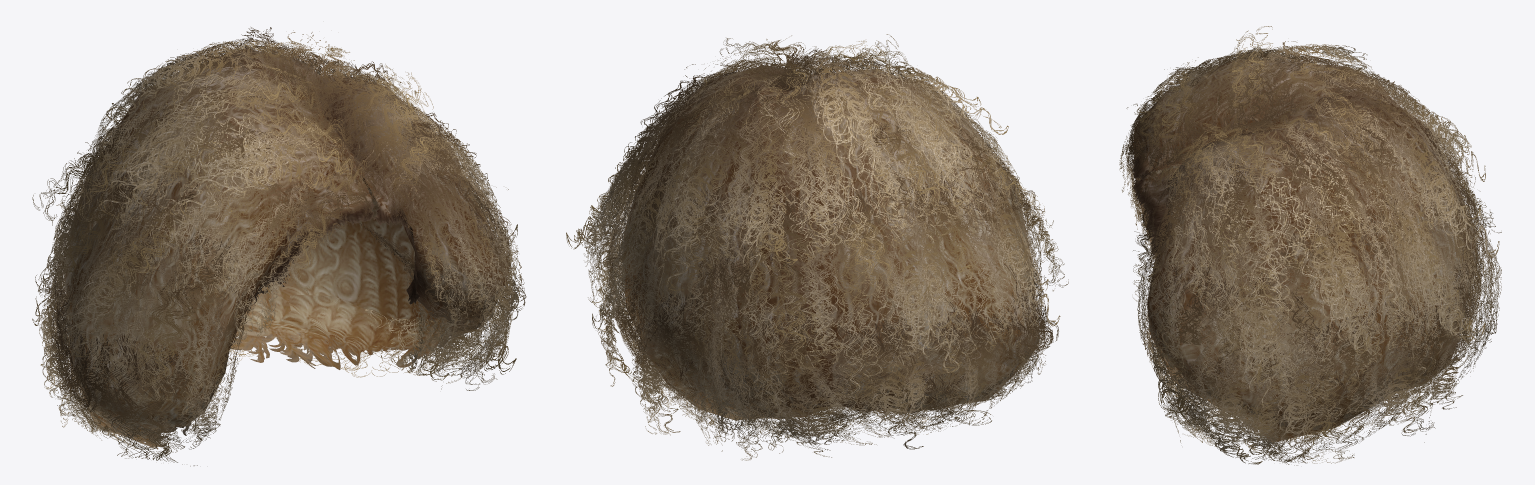
File: hair_007.fbx
3 renders of one model, left to right at view 1: azimuth 30°, elevation 25°; view 2: azimuth 150°, elevation 25°; view 3: azimuth 270°, elevation 25°, orthographic. The views are drawn at different scales.
Parts seen in each view (by area): view 1: Hair_Cap_Mesh.001; view 2: Hair_Cap_Mesh.001; view 3: Hair_Cap_Mesh.001.
Part boxes in pixels (x1,y1,x2,y2): Hair_Cap_Mesh.001: (32, 27, 526, 466); Hair_Cap_Mesh.001: (566, 34, 1068, 460); Hair_Cap_Mesh.001: (1119, 26, 1501, 465).
Bounding box in the file's own units: 3923 × 3074 × 2983.
